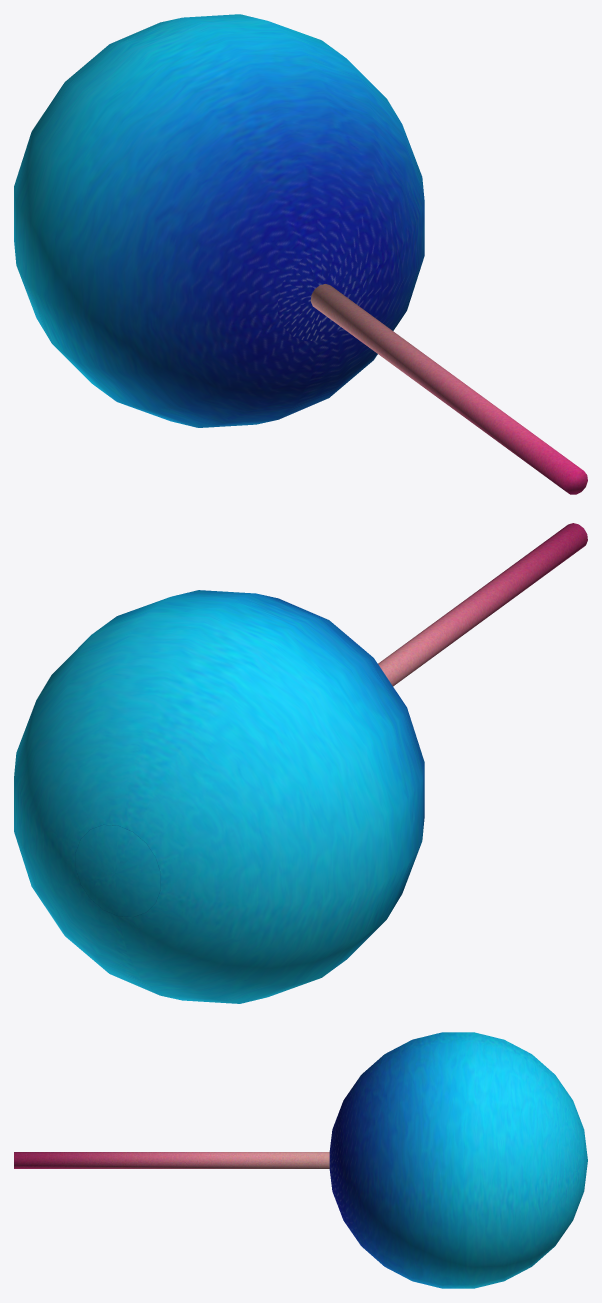
Rendered from tree1.fbx.
The picture shows the model from 3 angles, top to bottom: view 1: azimuth 30°, elevation 25°; view 2: azimuth 150°, elevation 25°; view 3: azimuth 270°, elevation 25°; orthographic projection. The views are drawn at different scales.
Visible parts, largest first — view 1: 球体; view 2: 球体; view 3: 球体.
Boxes of the visible parts, bbox=[...] form: 球体: bbox=[14, 14, 587, 494]; 球体: bbox=[14, 523, 587, 1003]; 球体: bbox=[14, 1032, 587, 1288].
Bounding box in the file's own units: 854 × 867 × 1933.
